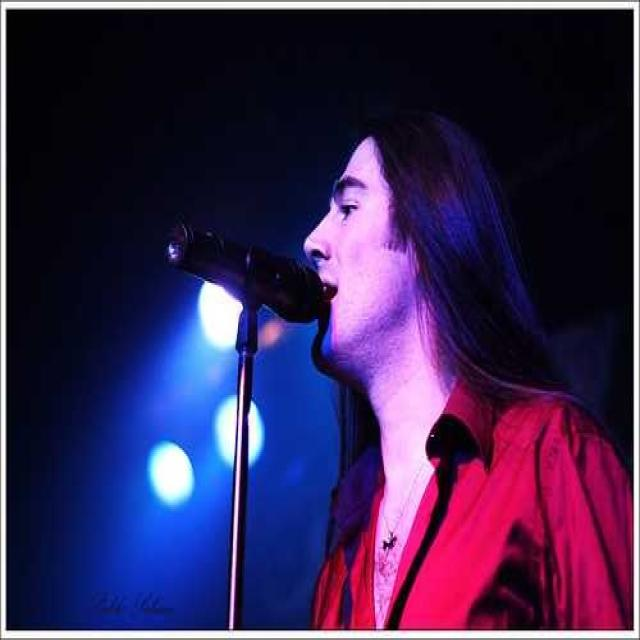microphone: (165, 218, 331, 323)
